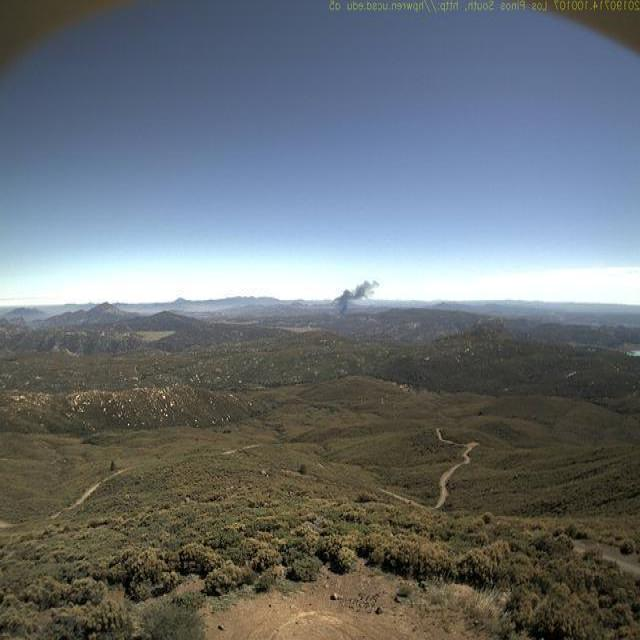Smoke: (332, 280, 382, 327)
